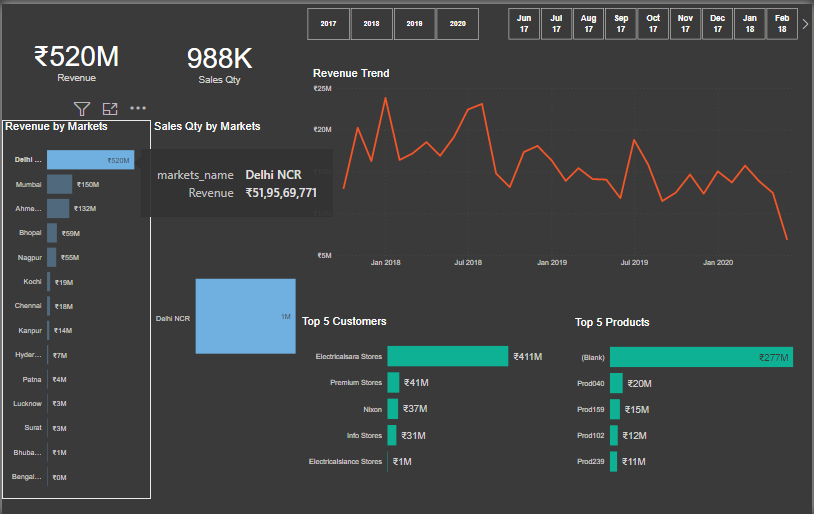

The dashboard page shown, as its layout file describes it:
{"tool":"powerbi","page":{"name":"Key Insights","canvas":[1350,850],"ordinal":0},"visuals":[{"type":"card","fields":{"Values":["BaseMeasures (2).Revenue"]},"box":[0,0,247.9,184.6],"z":0},{"type":"card","fields":{"Values":["BaseMeasures (2).Sales Qty"]},"box":[247.9,0,227.9,193.1],"z":1000},{"type":"barChart","title":"Revenue by Markets","fields":{"Y":["BaseMeasures (2).Revenue"],"Category":["sales markets.markets_name"]},"box":[0,193.1,247.9,631.9],"z":2000},{"type":"barChart","title":"Sales Qty by Markets","fields":{"Y":["BaseMeasures (2).Sales Qty"],"Category":["sales markets.markets_name"]},"box":[247.9,193.1,247.9,631.9],"z":3000},{"type":"slicer","fields":{"Values":["sales date.year"]},"box":[483.3,0,335,66.7],"z":4000},{"type":"slicer","fields":{"Values":["sales date.cy_date"]},"box":[818.6,0,531.7,66.5],"z":5000},{"type":"barChart","title":"Top 5 Customers","fields":{"Y":["BaseMeasures (2).Revenue"],"Category":["sales customers.custmer_name"]},"box":[495,518.3,446.7,285],"z":6000},{"type":"barChart","title":"Top 5 Products","fields":{"Y":["BaseMeasures (2).Revenue"],"Category":["sales products.product_code"]},"box":[950.7,519.2,399.5,282.8],"z":7000},{"type":"lineChart","title":"Revenue Trend","fields":{"Y":["BaseMeasures (2).Revenue"],"Category":["sales date.cy_date"]},"box":[513.3,105,825,341.7],"z":8000}]}

Visuals, with their boxes in screenshot pixels (x1, y1, x2, y2), scaled from the page's 1350x850 canvas onto the 814x514 screenshot:
card - BaseMeasures (2).Revenue: [0, 0, 149, 112]
card - BaseMeasures (2).Sales Qty: [149, 0, 287, 117]
"Revenue by Markets" barChart: [0, 117, 149, 499]
"Sales Qty by Markets" barChart: [149, 117, 299, 499]
slicer - sales date.year: [291, 0, 493, 40]
slicer - sales date.cy_date: [494, 0, 813, 40]
"Top 5 Customers" barChart: [298, 313, 568, 486]
"Top 5 Products" barChart: [573, 314, 813, 485]
"Revenue Trend" lineChart: [310, 63, 807, 270]
